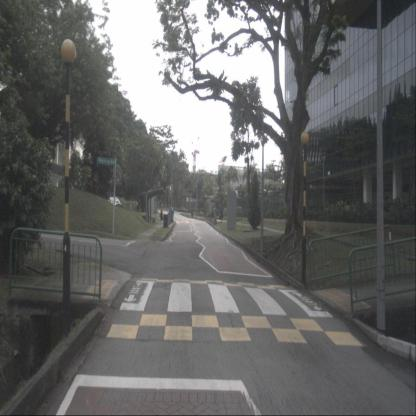human-pedestrian-adult: (160, 206, 163, 221)
vehicle-car: (110, 199, 122, 209)
